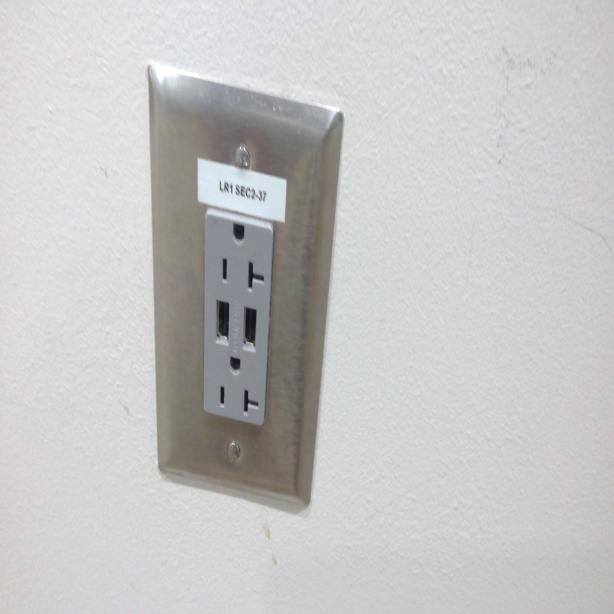typeb: (208, 210, 272, 297), (210, 344, 262, 420)
